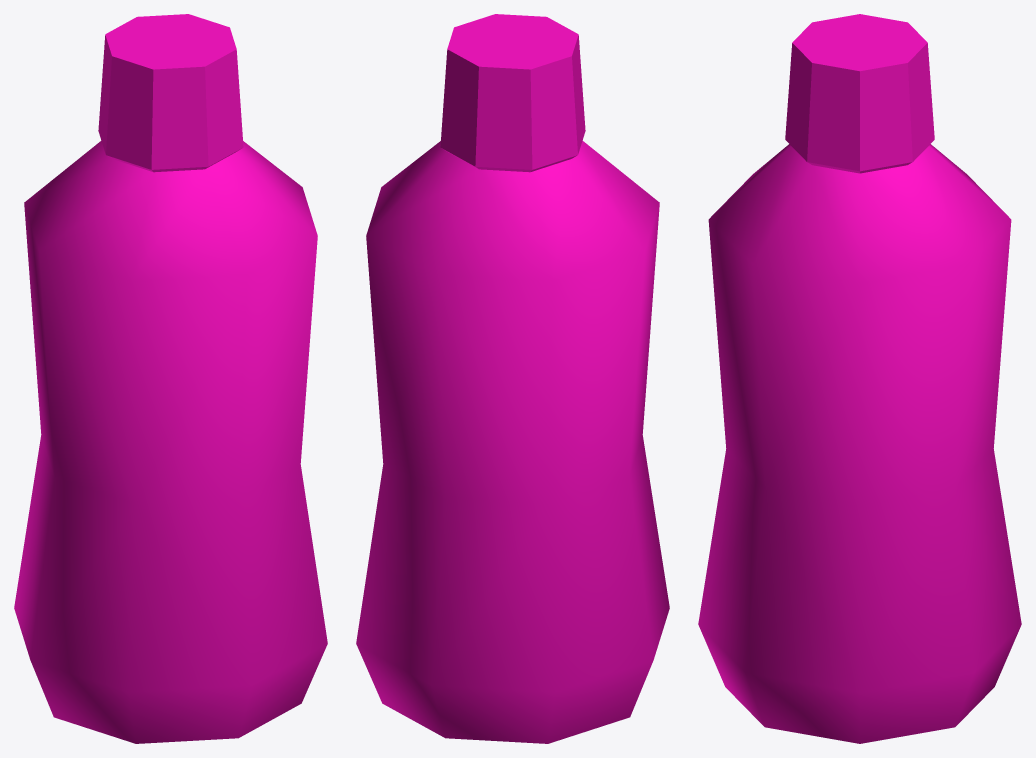
The model's file is study_drink_bottle_3_meshCollider.fbx.
The picture shows the model from 3 angles, left to right: view 1: azimuth 30°, elevation 25°; view 2: azimuth 150°, elevation 25°; view 3: azimuth 270°, elevation 25°; orthographic projection.
Parts seen in each view (by area): view 1: study_drink_bottle_3_meshCollider; view 2: study_drink_bottle_3_meshCollider; view 3: study_drink_bottle_3_meshCollider.
Boxes of the visible parts, x1,y1,x2,y2 form: study_drink_bottle_3_meshCollider: (14, 14, 327, 743); study_drink_bottle_3_meshCollider: (356, 14, 669, 743); study_drink_bottle_3_meshCollider: (698, 14, 1021, 743).
Bounding box in the file's own units: 8.32 × 18.29 × 8.32.
